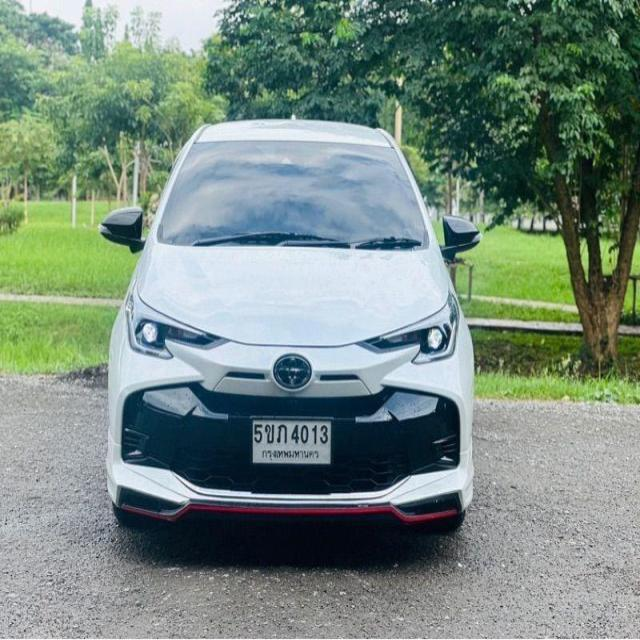Hatchback: (105, 119, 475, 538)
